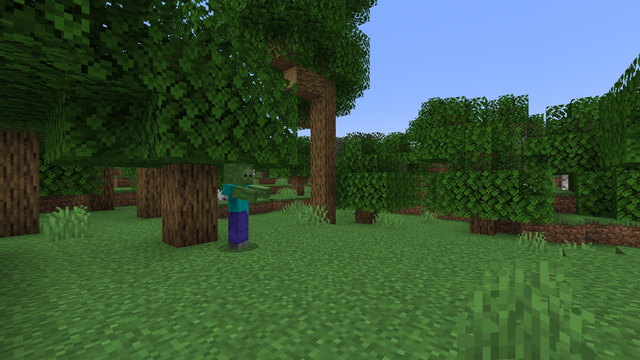zombies: (220, 165, 255, 251)
